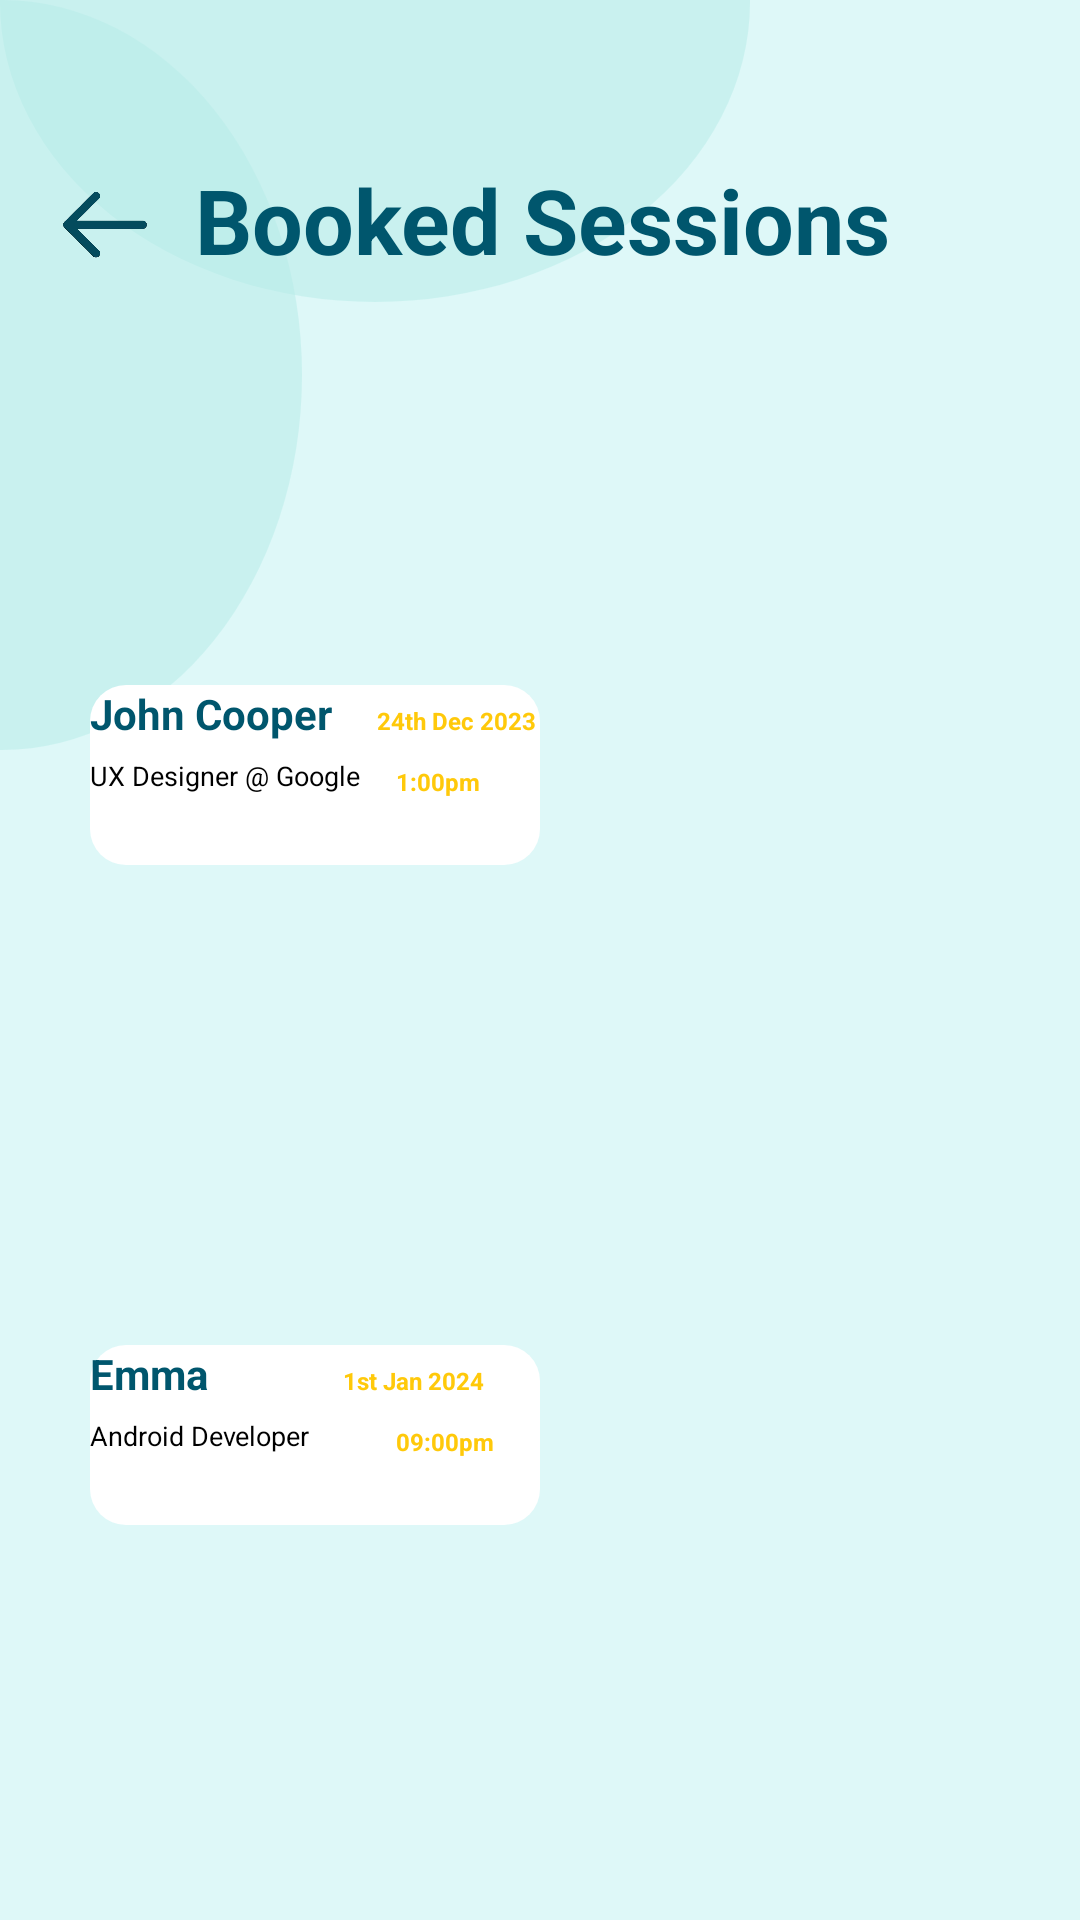

Named icons in this screenshot (1080x1920) and their bounding boxes, (x1, y1, x2, y2):
backarrow: (63, 192, 147, 258)
